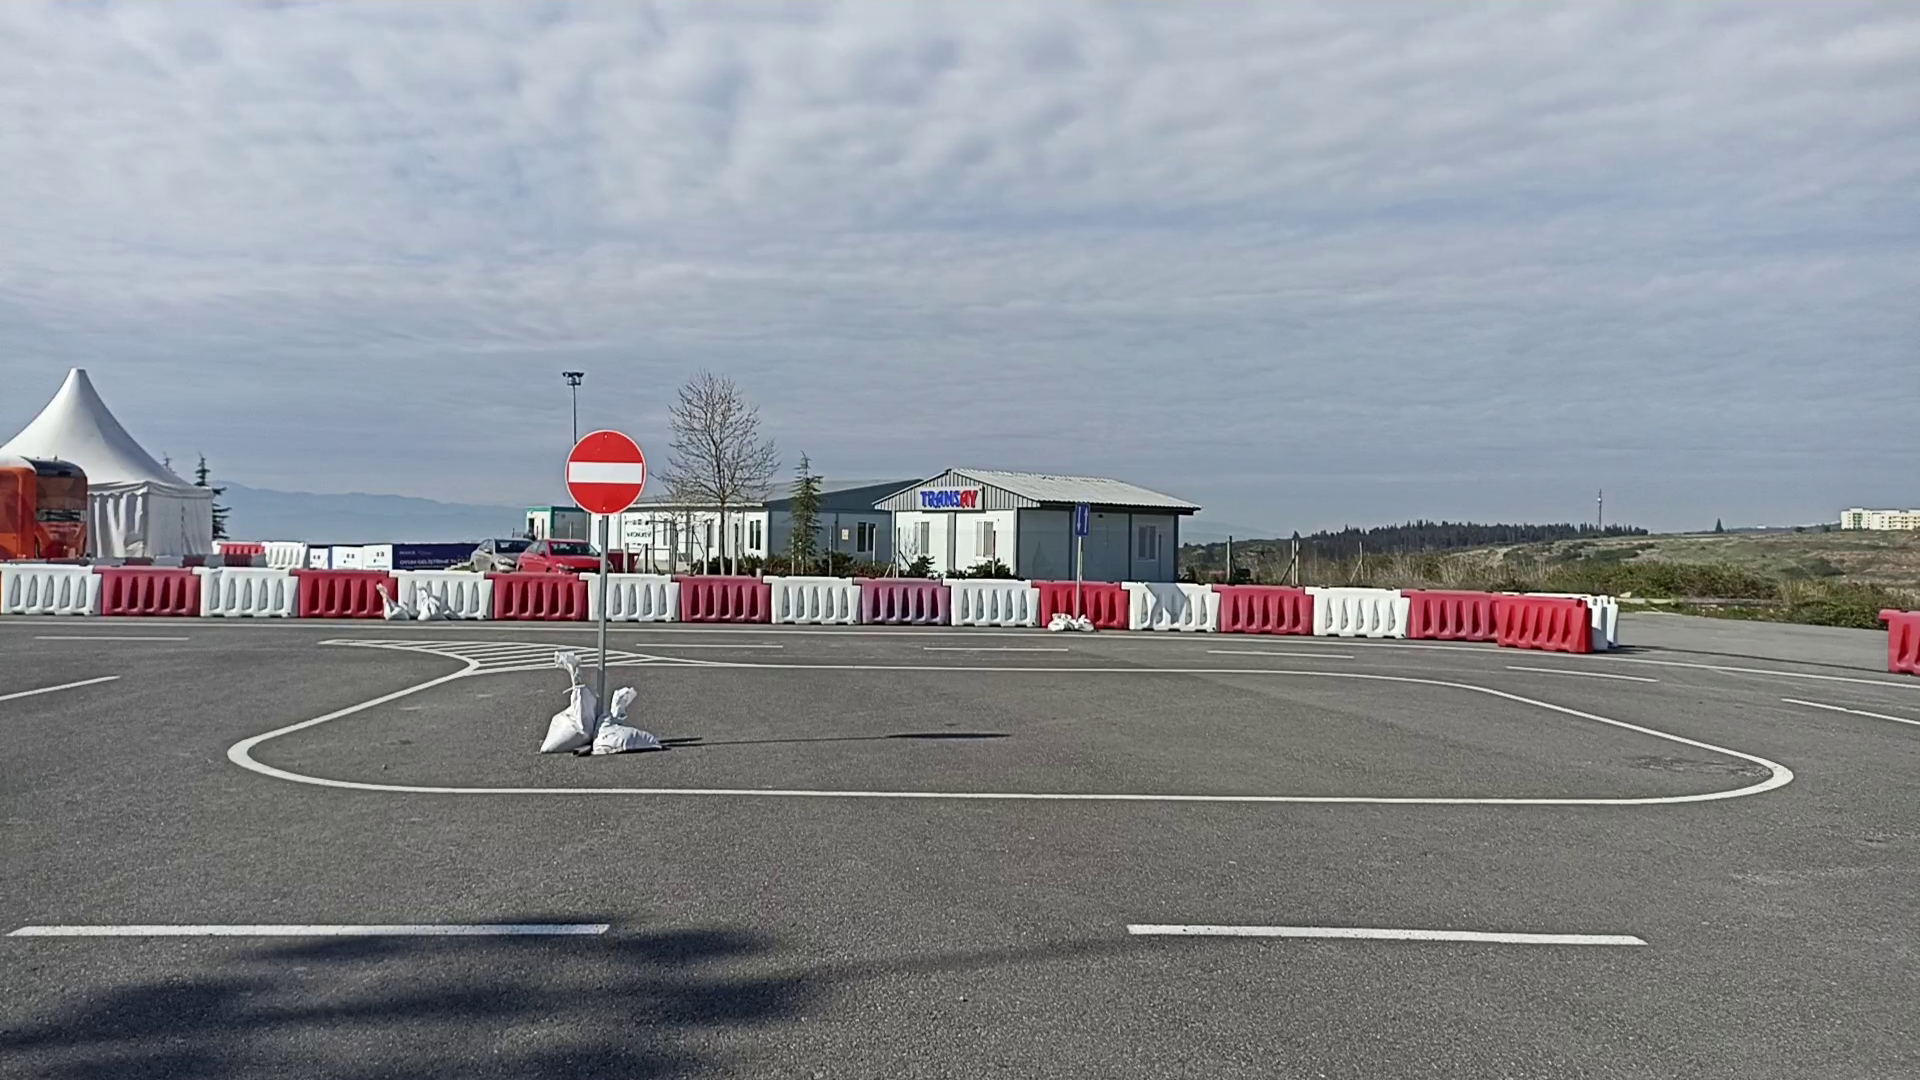noentryway: (563, 426, 647, 517)
